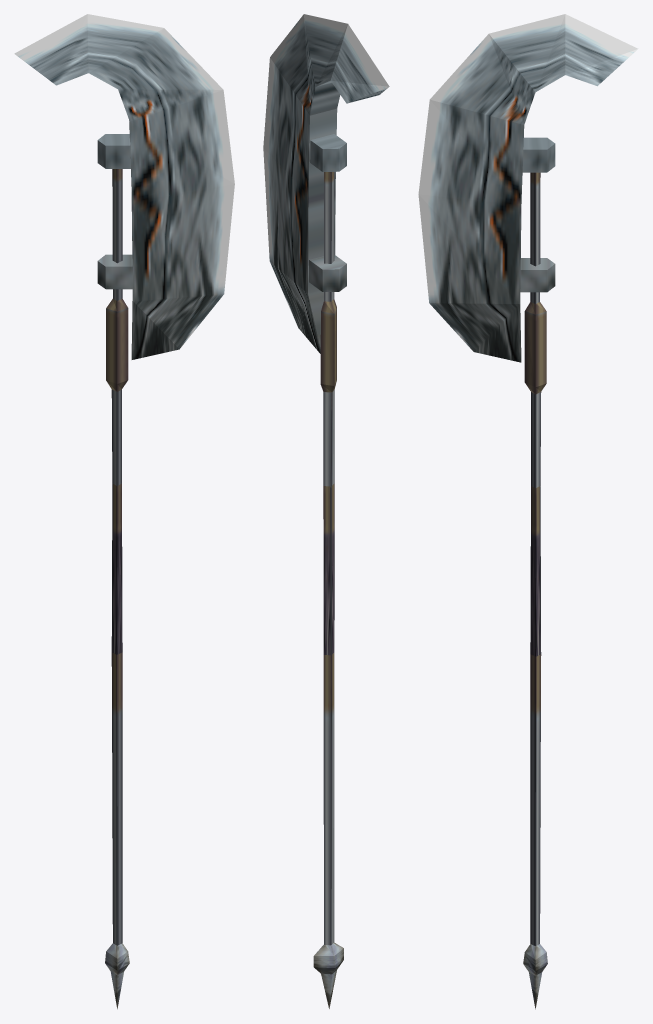
File: longarm01_1.obj
The picture shows the model from 3 angles, left to right: view 1: azimuth 90°, elevation 25°; view 2: azimuth 210°, elevation 25°; view 3: azimuth 270°, elevation 25°; orthographic projection.
Visible parts, largest first — view 1: longarm01_1; view 2: longarm01_1; view 3: longarm01_1.
Part boxes in pixels (<box>): longarm01_1: <box>14,14,234,1009</box>; longarm01_1: <box>263,14,389,1008</box>; longarm01_1: <box>418,14,638,1009</box>.
Bounding box in the file's own units: 0.09 × 2.44 × 0.4887.
